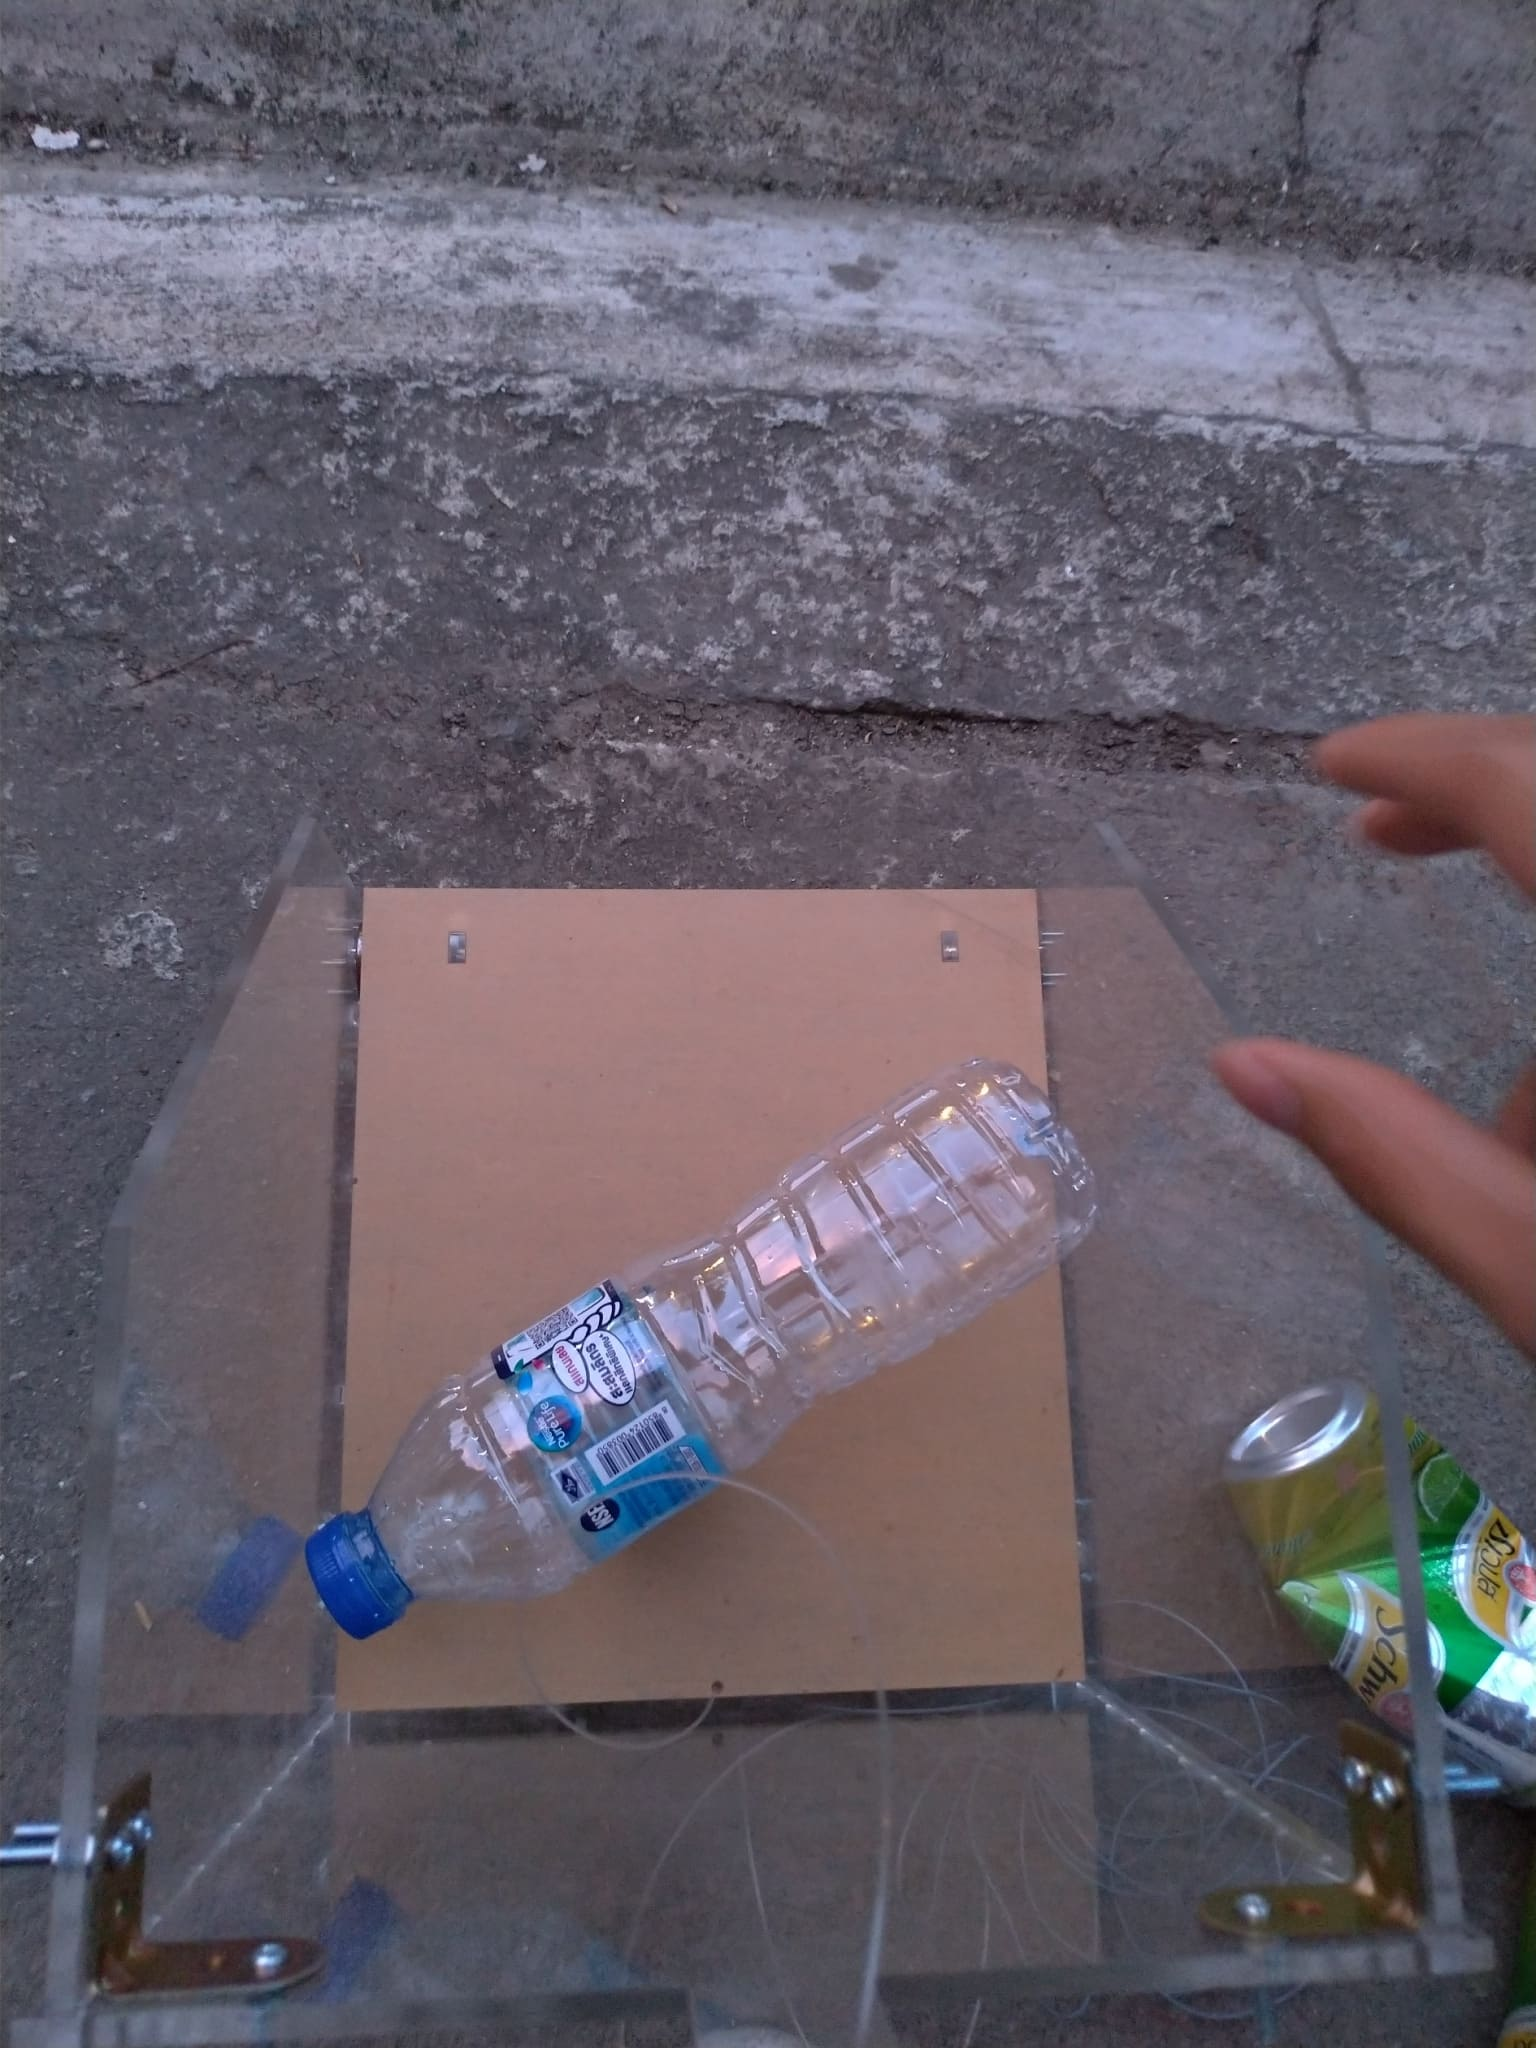AlCan: (1221, 1384, 1536, 1764)
PlasticBottle: (308, 1064, 1102, 1645)
